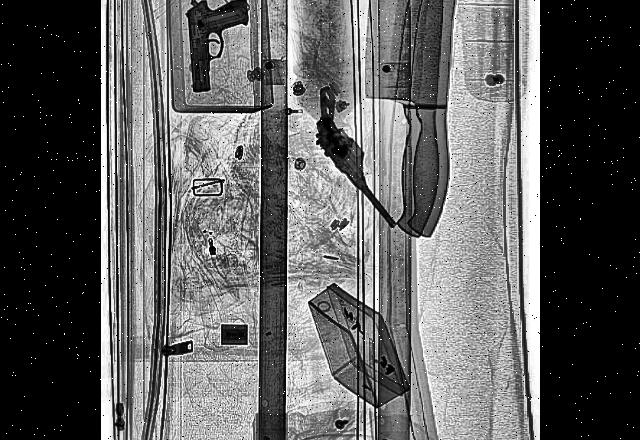Gun: (302, 78, 404, 252), (183, 0, 258, 93)
Knife: (354, 0, 457, 237), (400, 0, 462, 238)
